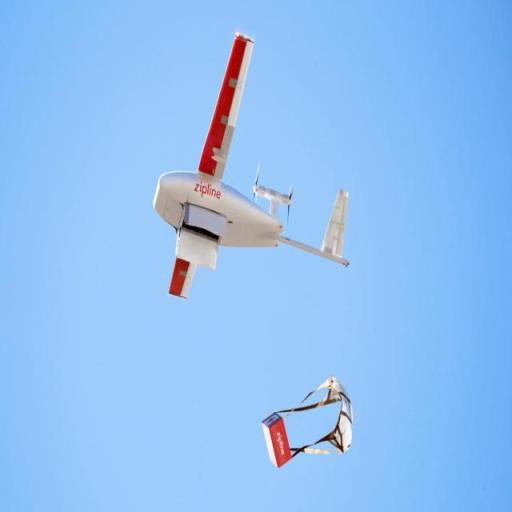uav: (148, 23, 356, 312)
